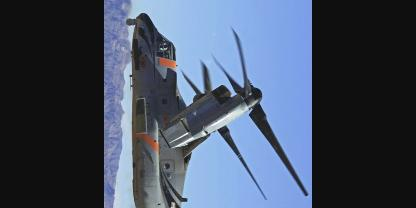Tornado: (126, 11, 310, 207)
